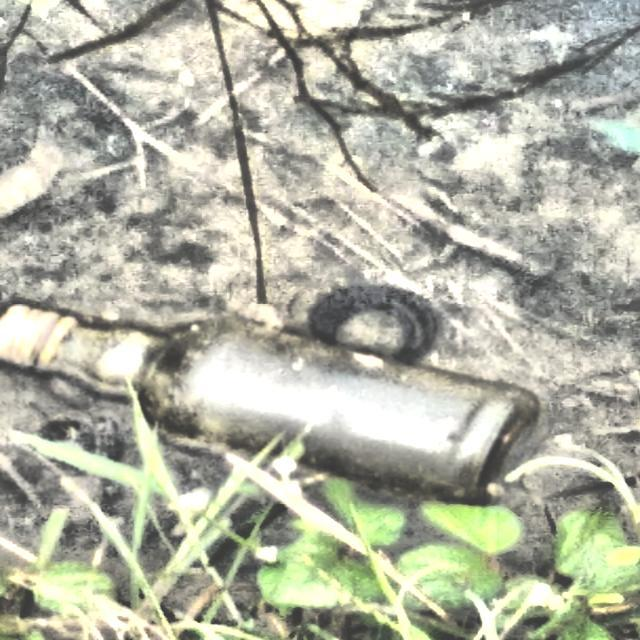anorganik: (0, 305, 548, 504)
